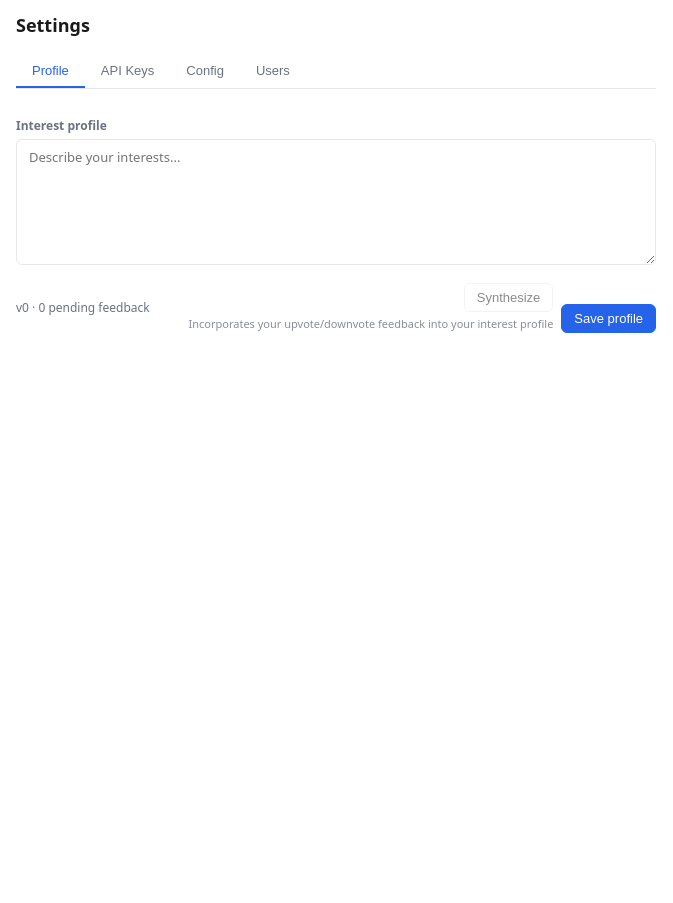
SettingsView — config tab › auth method checkboxes › renders one checkbox per method, checked from comma-separated state
Click the button with class "tab" showing "Config": click(205, 72) [170, 55, 240, 88]
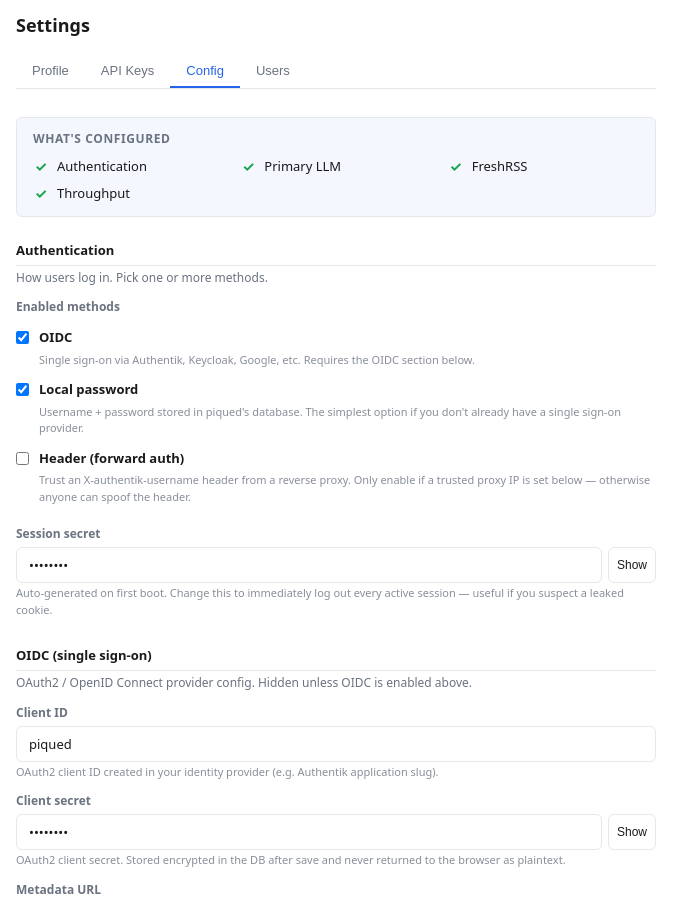
Expected: the number of checkboxes is 3, [16, 331, 29, 344]; [16, 383, 29, 396]; [16, 452, 29, 465]
